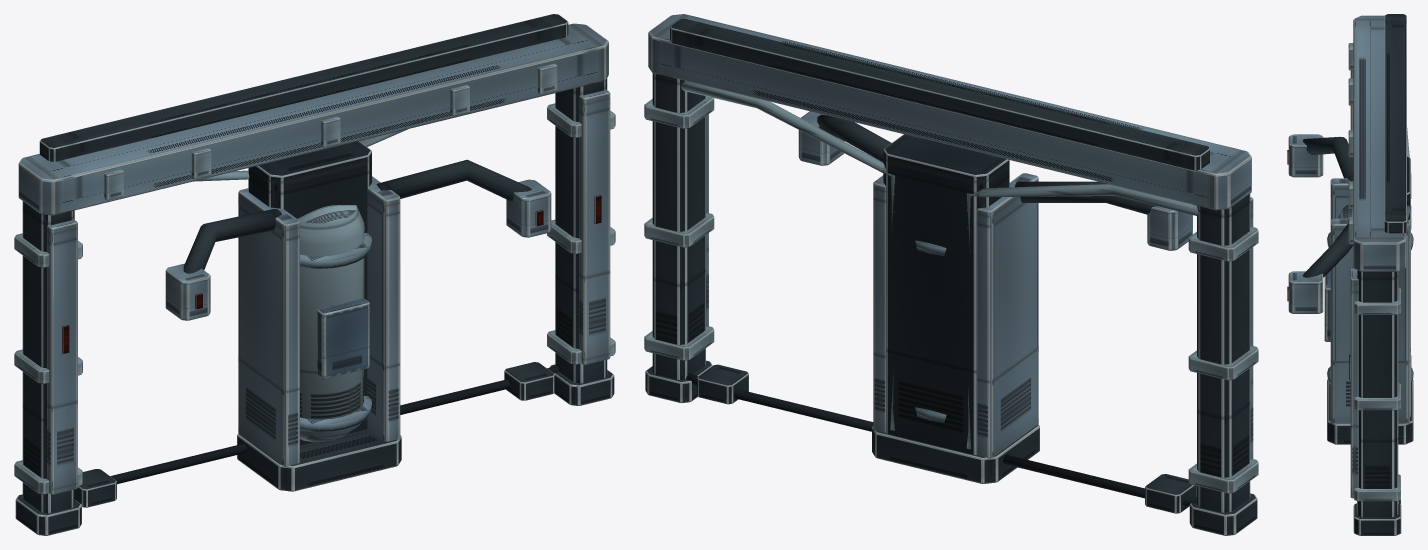
File: V47_FabricationBay.fbx
3 views of the same model, side by side, from view 1: azimuth 30°, elevation 25°; view 2: azimuth 150°, elevation 25°; view 3: azimuth 270°, elevation 25° (orthographic). The views are drawn at different scales.
Visible parts, largest first — view 1: V47_FabricationBay; view 2: V47_FabricationBay; view 3: V47_FabricationBay.
Part boxes in pixels (left/top/right/bottom): V47_FabricationBay: left=14, top=14, right=615, bottom=535; V47_FabricationBay: left=644, top=14, right=1258, bottom=535; V47_FabricationBay: left=1287, top=14, right=1413, bottom=535.
Size of the model in its own units: 7.59 by 4.63 by 1.75.
